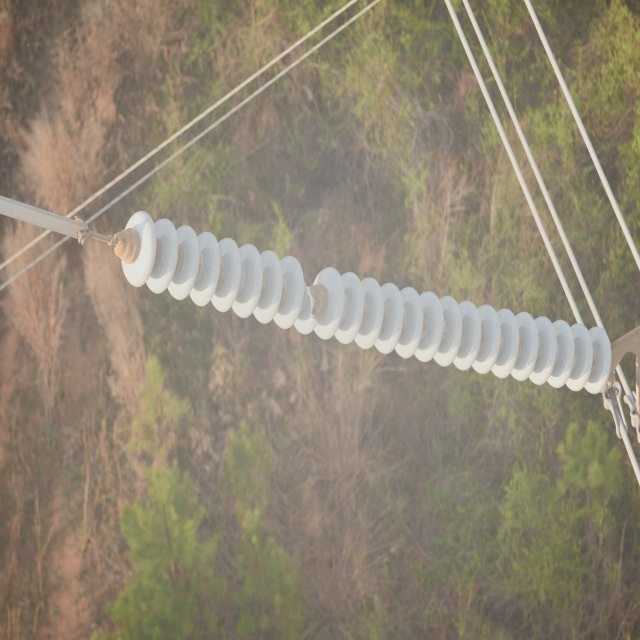broken: (304, 278, 318, 326)
insulator: (122, 212, 611, 398)
